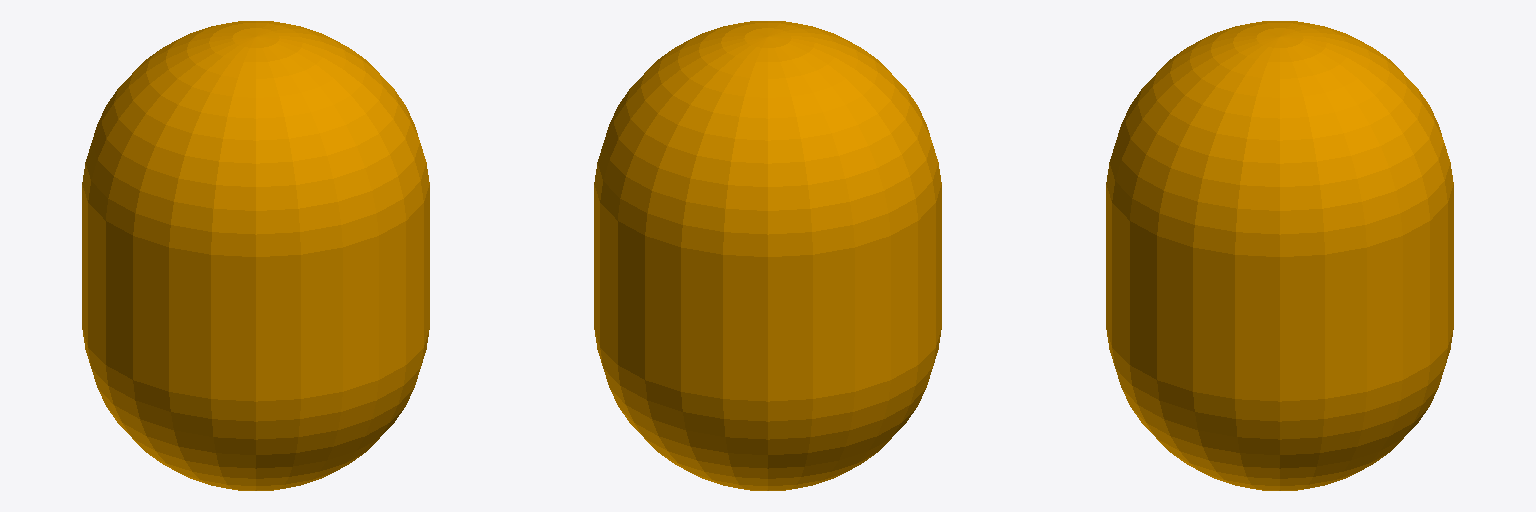
URDF robot description (object):
<?xml version="1.0"?>
<!-- Auto-generated by tools/gen_primitive_objects.py. kind=cap dims=(0.036, 0.028) -->
<robot name="object">
  <link name="object">
    <visual>
      <origin xyz="0 0 0"/>
      <geometry>
        <mesh filename="obj_1.stl"/>
      </geometry>
    </visual>
    <collision>
      <origin xyz="0 0 0"/>
      <geometry>
        <mesh filename="obj_1.stl"/>
      </geometry>
    </collision>
    <inertial>
      <mass value="0.061887"/>
      <inertia ixx="0.00005157" ixy="0.0" ixz="0.0" iyy="0.00005157" iyz="0.0" izz="0.00003504"/>
    </inertial>
  </link>
</robot>

--- Facts derived from the render (not from the file) ---
Views: 3 orthographic renders of the robot side by side, from view 1: azimuth 30°, elevation 25°; view 2: azimuth 150°, elevation 25°; view 3: azimuth 270°, elevation 25°.
Robot: object — 1 links, 0 joints (none); root link object; default pose: all joints at 0.
Visible links, largest first — view 1: object; view 2: object; view 3: object.
Link boxes in pixels (box(x1,y1,x2,y2)): object: box(82, 21, 429, 490); object: box(594, 21, 941, 490); object: box(1106, 21, 1453, 490).
Bounding box of the posed robot: 0.0718 × 0.0718 × 0.1 m (x, y, z).
1 mesh visuals loaded from 1 distinct referenced files (1 binary STL).
